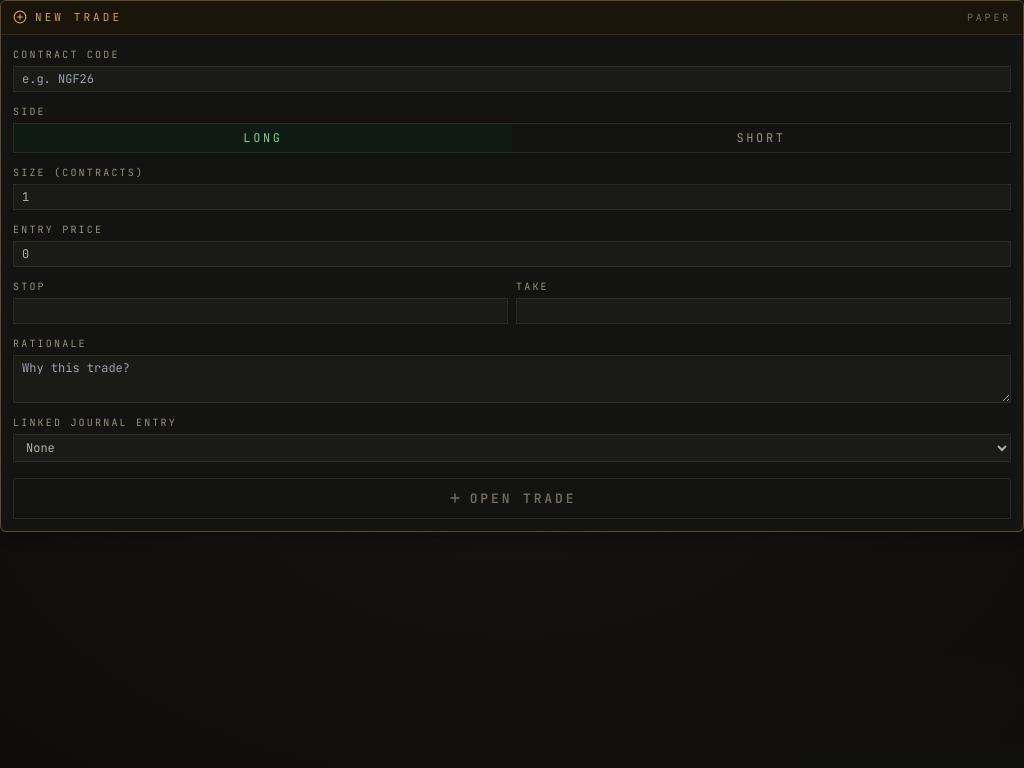
Test: NewTradeForm › enables submit when size and entry price are valid
Replace the text in the number field labelled "Entry Price" with "3.45" at (512, 254), box [13,240,1011,266]
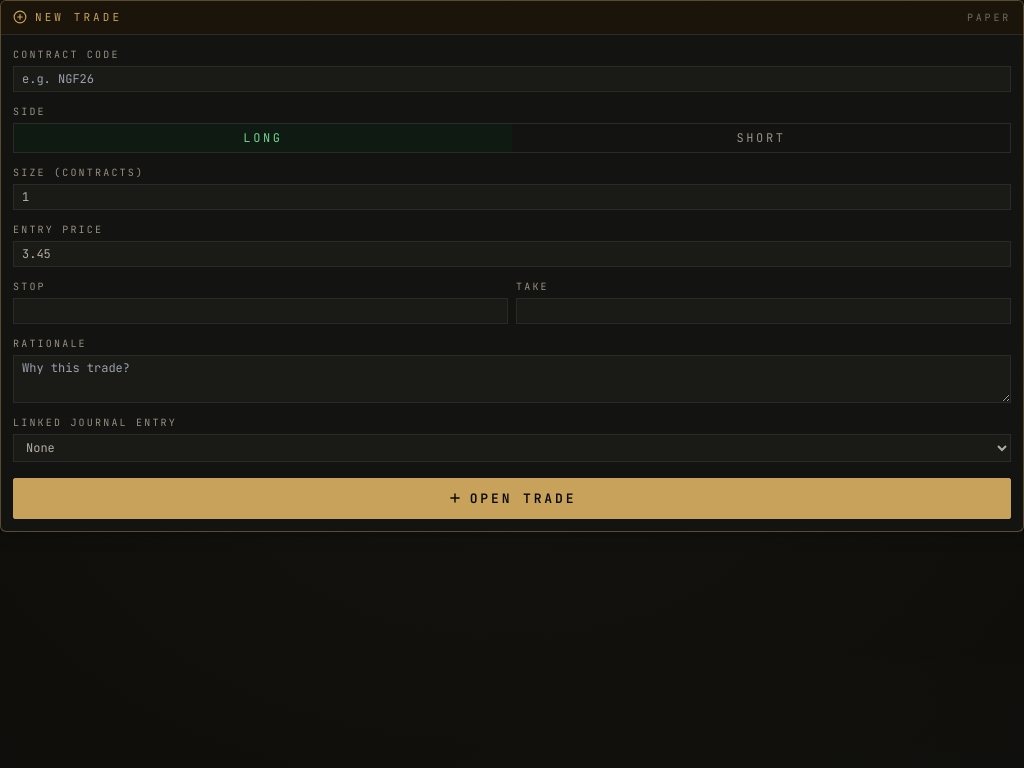
Check: the button with test id "open-trade-submit" is enabled, box [13,478,1011,519]
